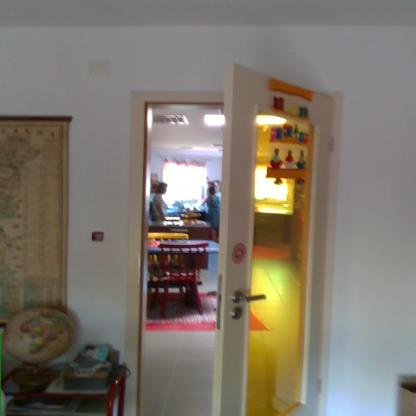semi: (117, 67, 340, 412)
